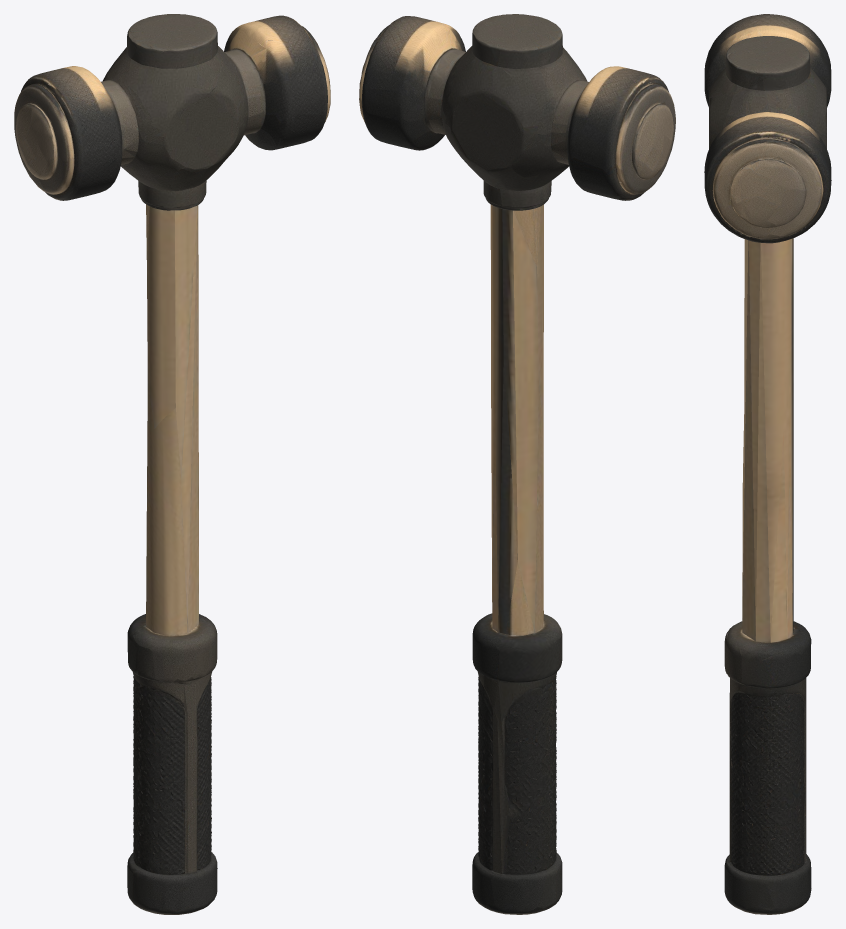
Rendered from mallet.glb.
3 views of the same model, side by side, from view 1: azimuth 30°, elevation 25°; view 2: azimuth 150°, elevation 25°; view 3: azimuth 270°, elevation 25° (orthographic). The views are drawn at different scales.
Parts seen in each view (by area): view 1: mallet; view 2: mallet; view 3: mallet.
Boxes of the visible parts, bbox=[...] form: mallet: bbox=[14, 14, 330, 914]; mallet: bbox=[359, 14, 675, 914]; mallet: bbox=[704, 14, 831, 914].
Bounding box in the file's own units: 0.2213 × 0.651 × 0.0885.
Materials: 1 (1 with a texture image).
